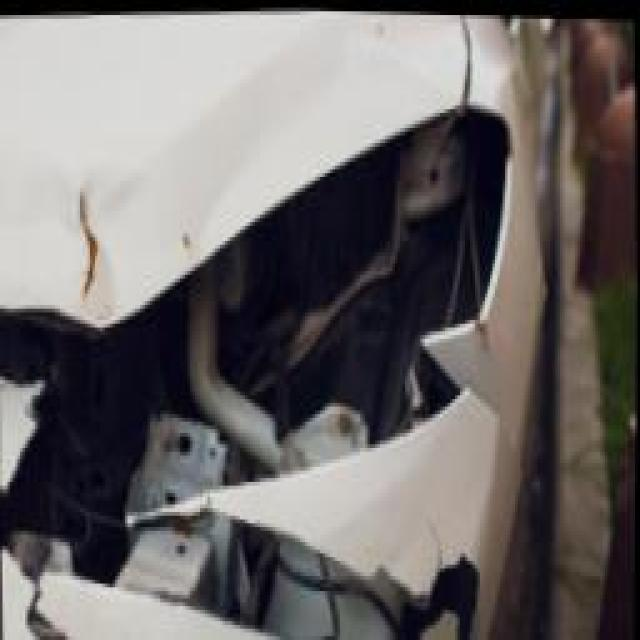Bonnet: (0, 147, 141, 290)
Bumper: (0, 388, 530, 640)
Fender: (462, 218, 524, 389)
Light: (95, 151, 499, 402)
